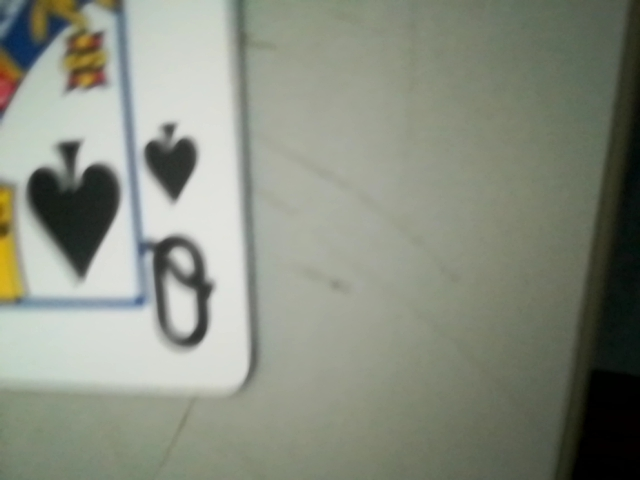ht q: (93, 91, 208, 362)
